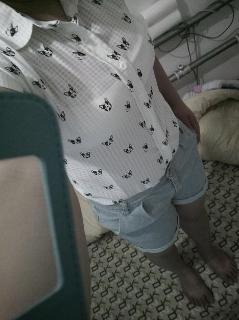short sleeve top: (0, 0, 181, 205)
shorts: (89, 116, 209, 253)
